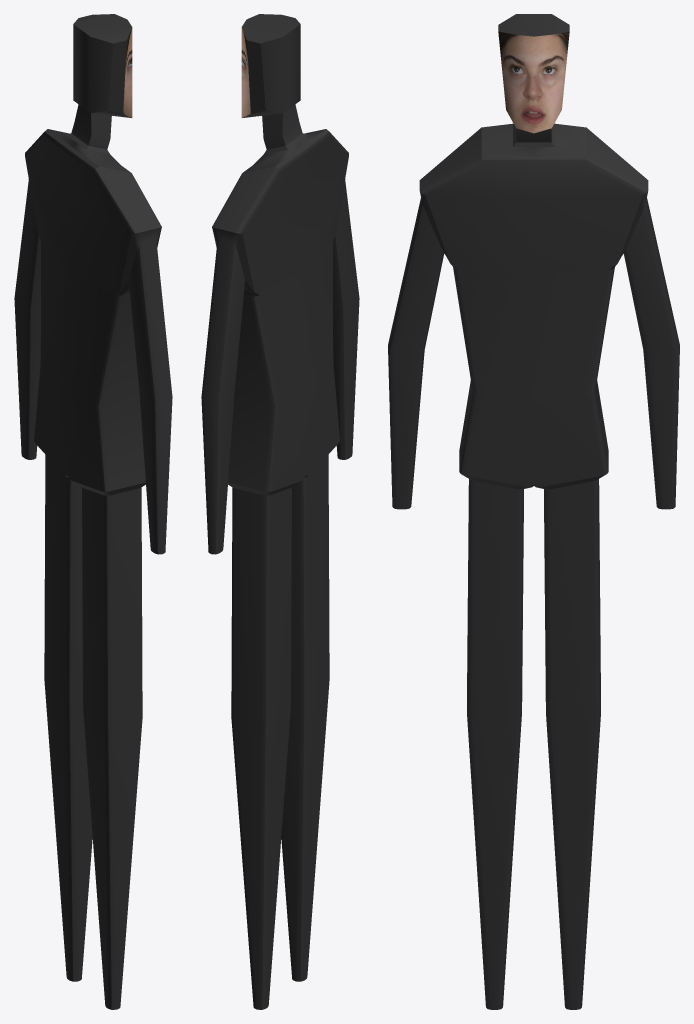
The model's file is cat_dead.fbx.
The picture shows the model from 3 angles, left to right: view 1: azimuth 30°, elevation 25°; view 2: azimuth 150°, elevation 25°; view 3: azimuth 270°, elevation 25°; orthographic projection. The views are drawn at different scales.
Parts seen in each view (by area): view 1: cat_dead; view 2: cat_dead; view 3: cat_dead.
Part boxes in pixels (x1,y1,x2,y2): cat_dead: [14, 14, 172, 1009]; cat_dead: [201, 14, 359, 1009]; cat_dead: [388, 14, 679, 1009].
Bounding box in the file's own units: 0.7035 × 10.93 × 2.93.
